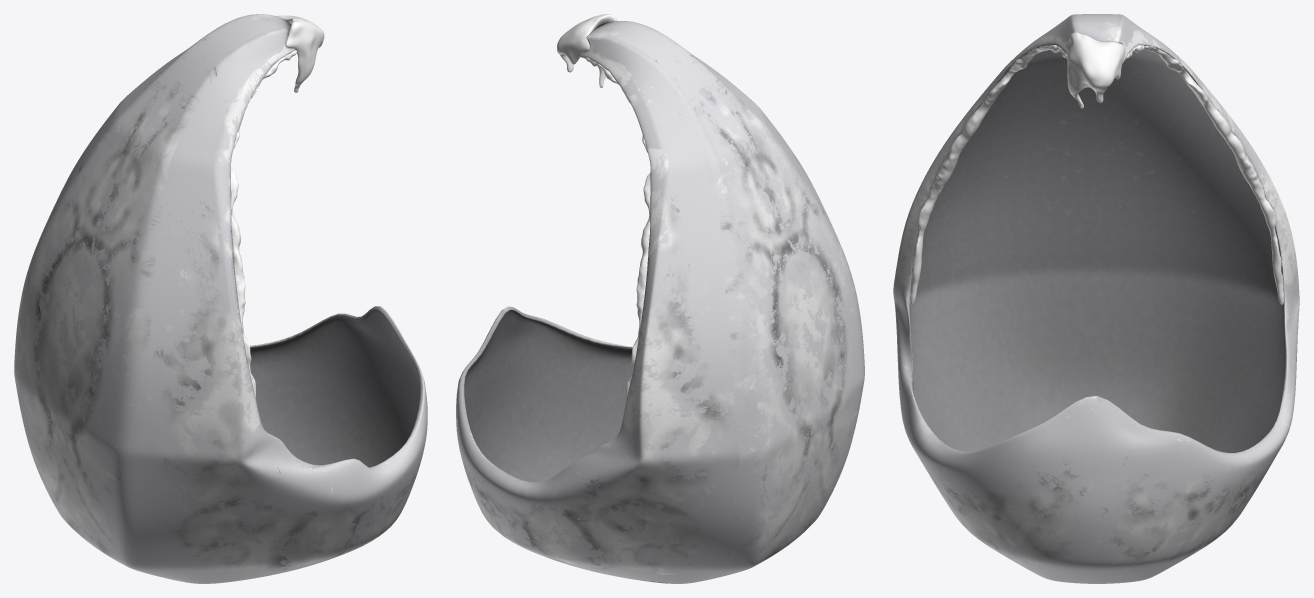
File: ashnikko_EGG_02.5.glb
The picture shows the model from 3 angles, left to right: view 1: azimuth 30°, elevation 25°; view 2: azimuth 150°, elevation 25°; view 3: azimuth 270°, elevation 25°; orthographic projection.
Visible parts, largest first — view 1: fabrige_high_poly_01, Group8800.001, Group19458.001; view 2: fabrige_high_poly_01, Group19458.001, Group8800.001; view 3: fabrige_high_poly_01, Group19458.001, Group8800.001.
Part boxes in pixels (x1,y1,x2,y2): fabrige_high_poly_01: (14, 14, 427, 583); Group8800.001: (277, 15, 324, 92); Group19458.001: (231, 50, 297, 398); fabrige_high_poly_01: (456, 21, 864, 583); Group19458.001: (585, 57, 650, 399); Group8800.001: (557, 14, 617, 87); fabrige_high_poly_01: (893, 14, 1299, 583); Group19458.001: (910, 45, 1283, 304); Group8800.001: (1065, 32, 1124, 108).
Bounding box in the file's own units: 9.66 × 14.27 × 9.97.
2 materials, 1 textured.
